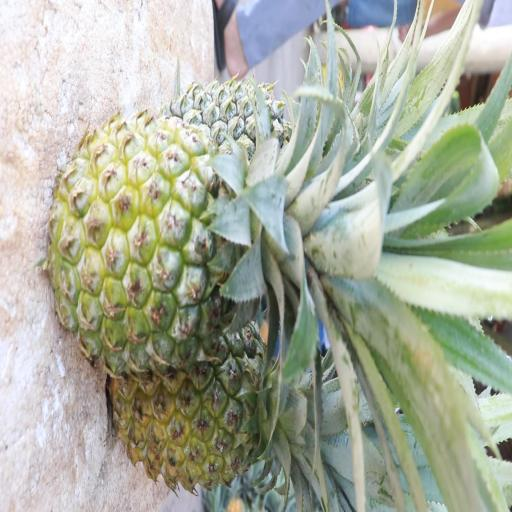------------------------------: (53, 116, 382, 366)
Pineapple - v8 v1: (112, 341, 322, 491)
